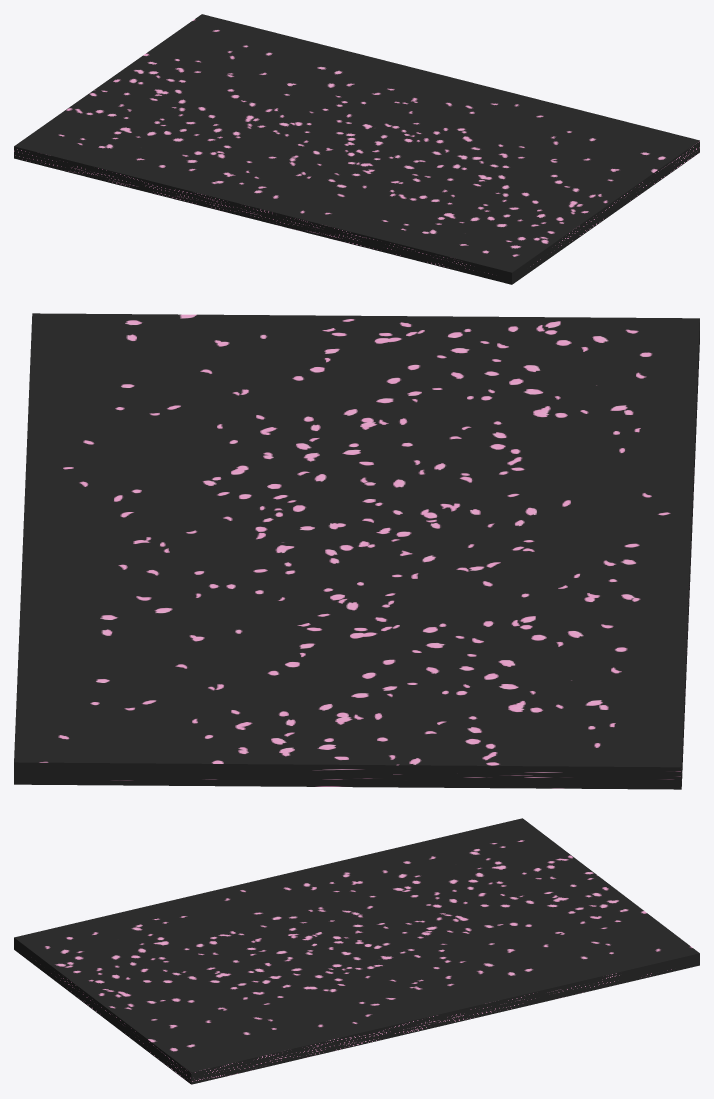
The model's file is Goal_Floor.fbx.
3 renders of one model, top to bottom at view 1: azimuth 30°, elevation 25°; view 2: azimuth 150°, elevation 25°; view 3: azimuth 270°, elevation 25°, orthographic. The views are drawn at different scales.
Visible parts, largest first — view 1: pCube2; view 2: pCube2; view 3: pCube2.
Part boxes in pixels (x1,y1,x2,y2): pCube2: (14, 14, 699, 284); pCube2: (14, 313, 699, 789); pCube2: (14, 818, 699, 1084).
Bounding box in the file's own units: 32.69 × 0.7295 × 37.26.
1 material, 1 textured.
